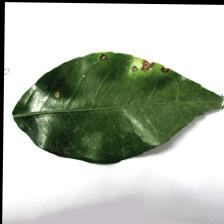canker: (38, 45, 178, 106)
